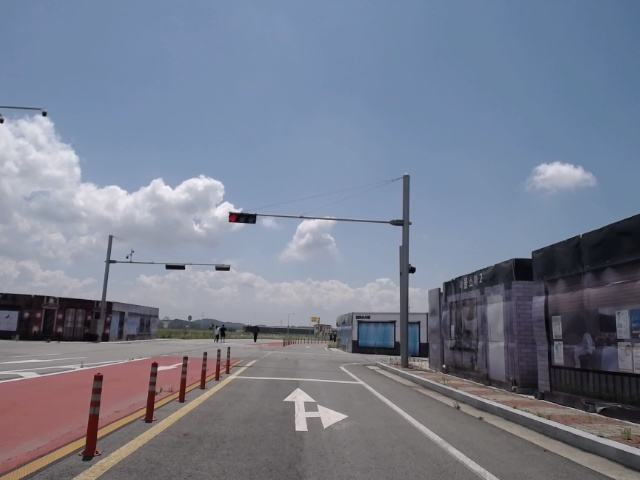red_3: (229, 210, 257, 226)
